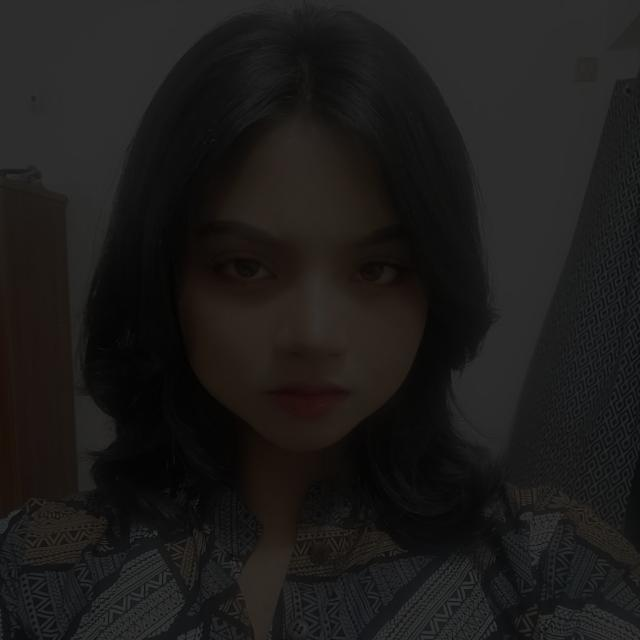Angry: (157, 92, 484, 493)
